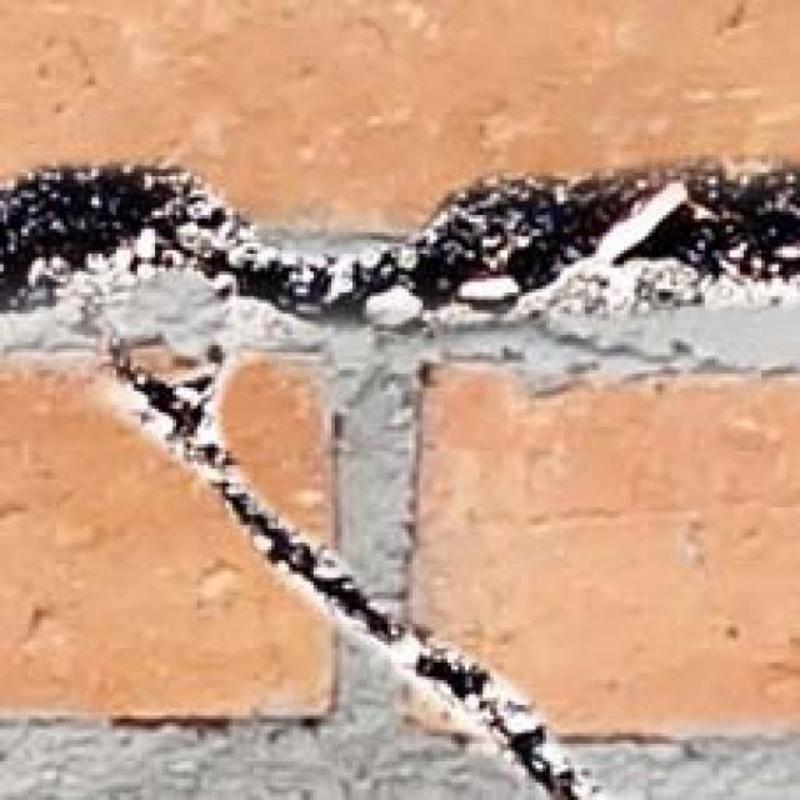pothole: (0, 167, 664, 315), (115, 349, 408, 643), (414, 645, 580, 800), (636, 170, 800, 279)
